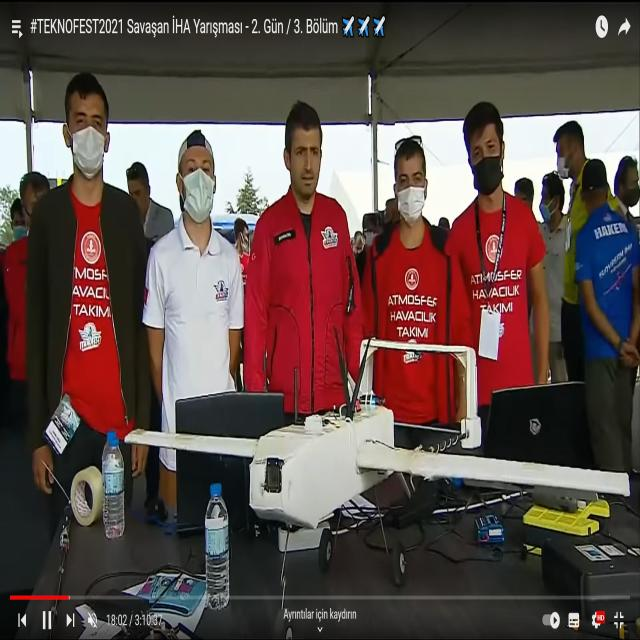iha: (126, 331, 630, 577)
